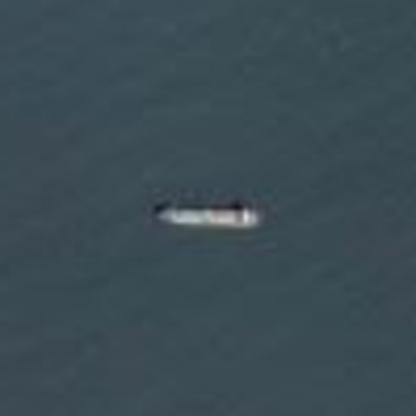ship: (145, 195, 270, 236)
